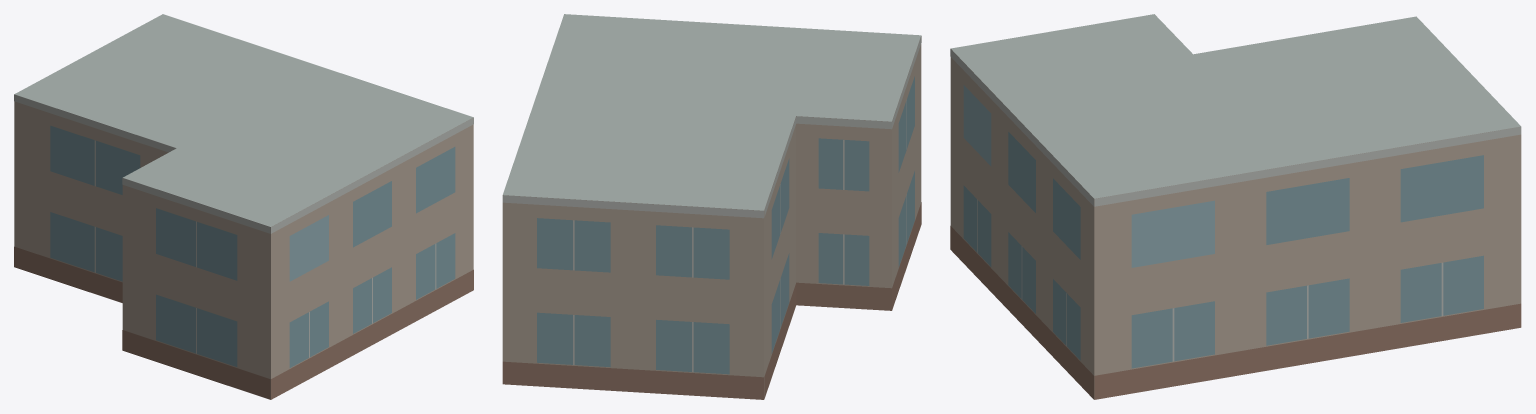
Rendered from survey-upis-32817836.glb.
3 renders of one model, left to right at view 1: azimuth 30°, elevation 25°; view 2: azimuth 150°, elevation 25°; view 3: azimuth 270°, elevation 25°, orthographic. The views are drawn at different scales.
Parts seen in each view (by area): view 1: survey-upis-32817836.tmp; view 2: survey-upis-32817836.tmp; view 3: survey-upis-32817836.tmp.
Part boxes in pixels (<box>): survey-upis-32817836.tmp: <box>14,14,473,399</box>; survey-upis-32817836.tmp: <box>502,14,921,399</box>; survey-upis-32817836.tmp: <box>950,14,1521,399</box>.
Bounding box in the file's own units: 12.03 × 6.1 × 15.7.
